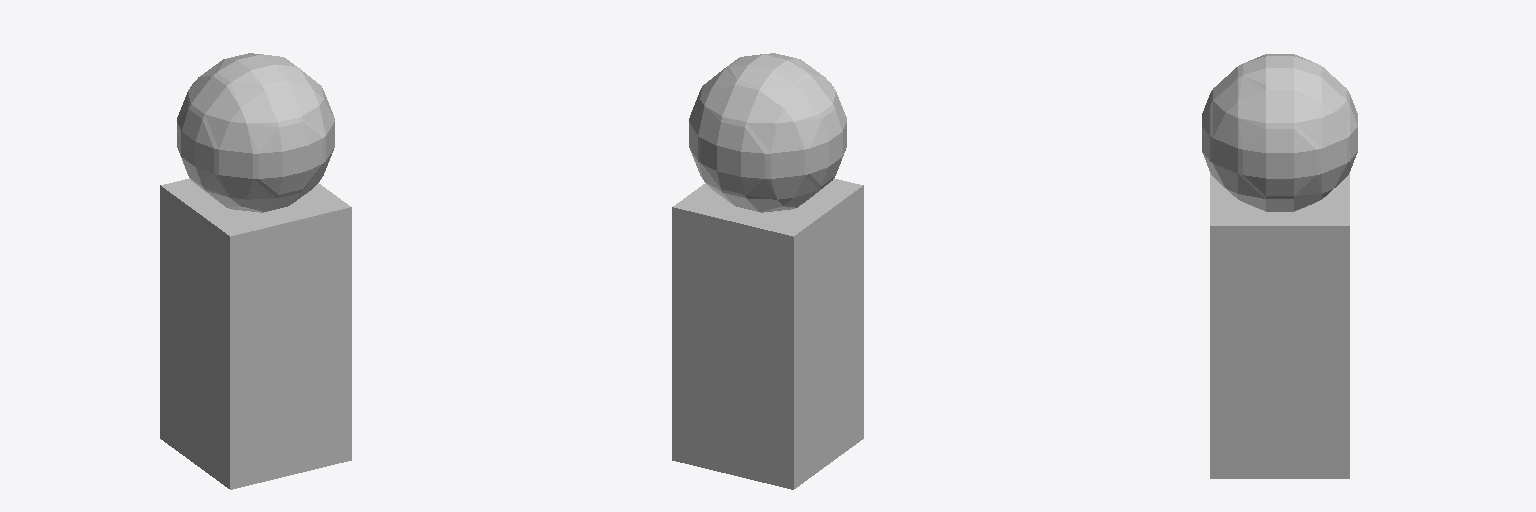
The model's file is player.obj.
The picture shows the model from 3 angles: view 1: azimuth 30°, elevation 25°; view 2: azimuth 150°, elevation 25°; view 3: azimuth 270°, elevation 25°; orthographic projection.
Parts seen in each view (by area): view 1: Cube, Mball; view 2: Cube, Mball; view 3: Cube, Mball.
Boxes of the visible parts, <box> form: Cube: <box>160,178,351,489</box>; Mball: <box>177,53,334,212</box>; Cube: <box>672,178,863,489</box>; Mball: <box>689,53,846,212</box>; Cube: <box>1210,173,1349,478</box>; Mball: <box>1202,54,1357,211</box>.
Size of the model in its own units: 1.12 by 3.06 by 1.12.